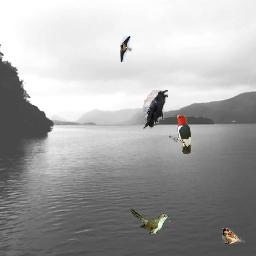Crow: (143, 90, 168, 130)
Cuckoo: (130, 208, 170, 234)
Sparrow: (222, 228, 246, 244)
Swallow: (120, 36, 135, 62)
Woodpecker: (169, 114, 191, 154)
